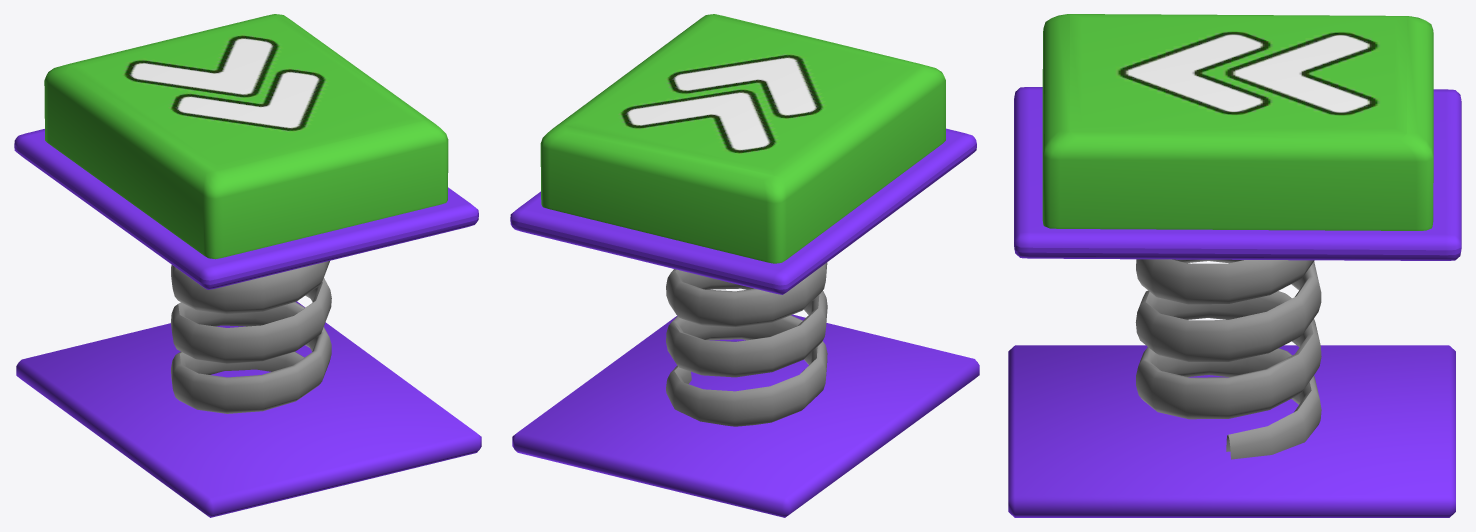
File: Jump Pad (2).fbx
3 views of the same model, side by side, from view 1: azimuth 30°, elevation 25°; view 2: azimuth 150°, elevation 25°; view 3: azimuth 270°, elevation 25° (orthographic). The views are drawn at different scales.
Parts seen in each view (by area): view 1: jump_ramp, Jump Pad (2); view 2: jump_ramp, Jump Pad (2); view 3: jump_ramp, Jump Pad (2).
Boxes of the visible parts, x1,y1,x2,y2 form: jump_ramp: (14, 14, 478, 413); Jump Pad (2): (16, 301, 481, 517); jump_ramp: (510, 14, 976, 426); Jump Pad (2): (512, 314, 979, 517); jump_ramp: (1014, 14, 1461, 459); Jump Pad (2): (1008, 345, 1455, 517).
Size of the model in its own units: 3.3 by 3.68 by 4.08.
3 materials, 1 textured.
